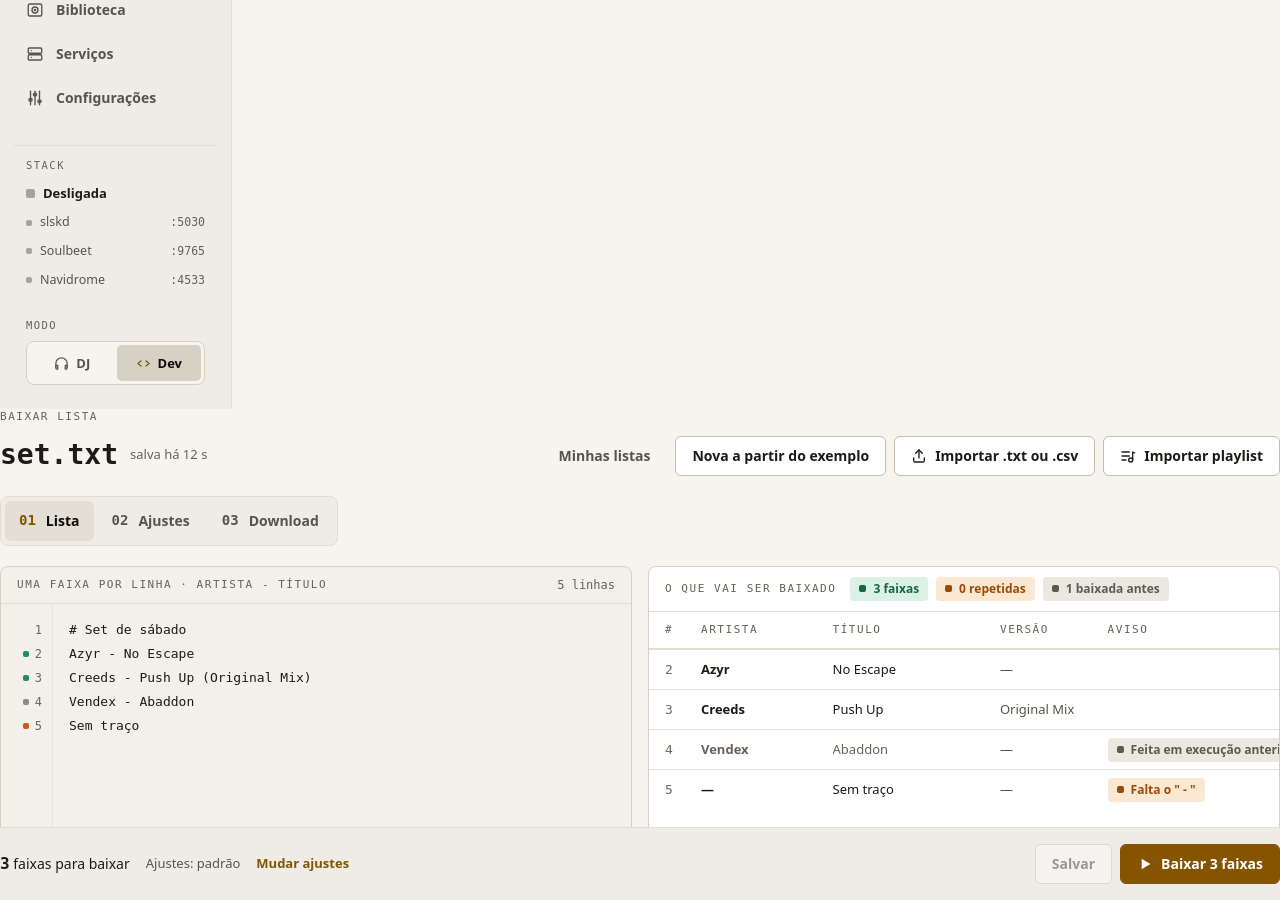
Test: iniciar o lote › cancelar a pergunta não liga nada nem inicia
(page scrolled)
Expected: the table with test id "previa-lista" is shown, [649, 612, 1279, 809]
Click the button with test id "iniciar-lote" at (1200, 864), box [1120, 844, 1279, 884]
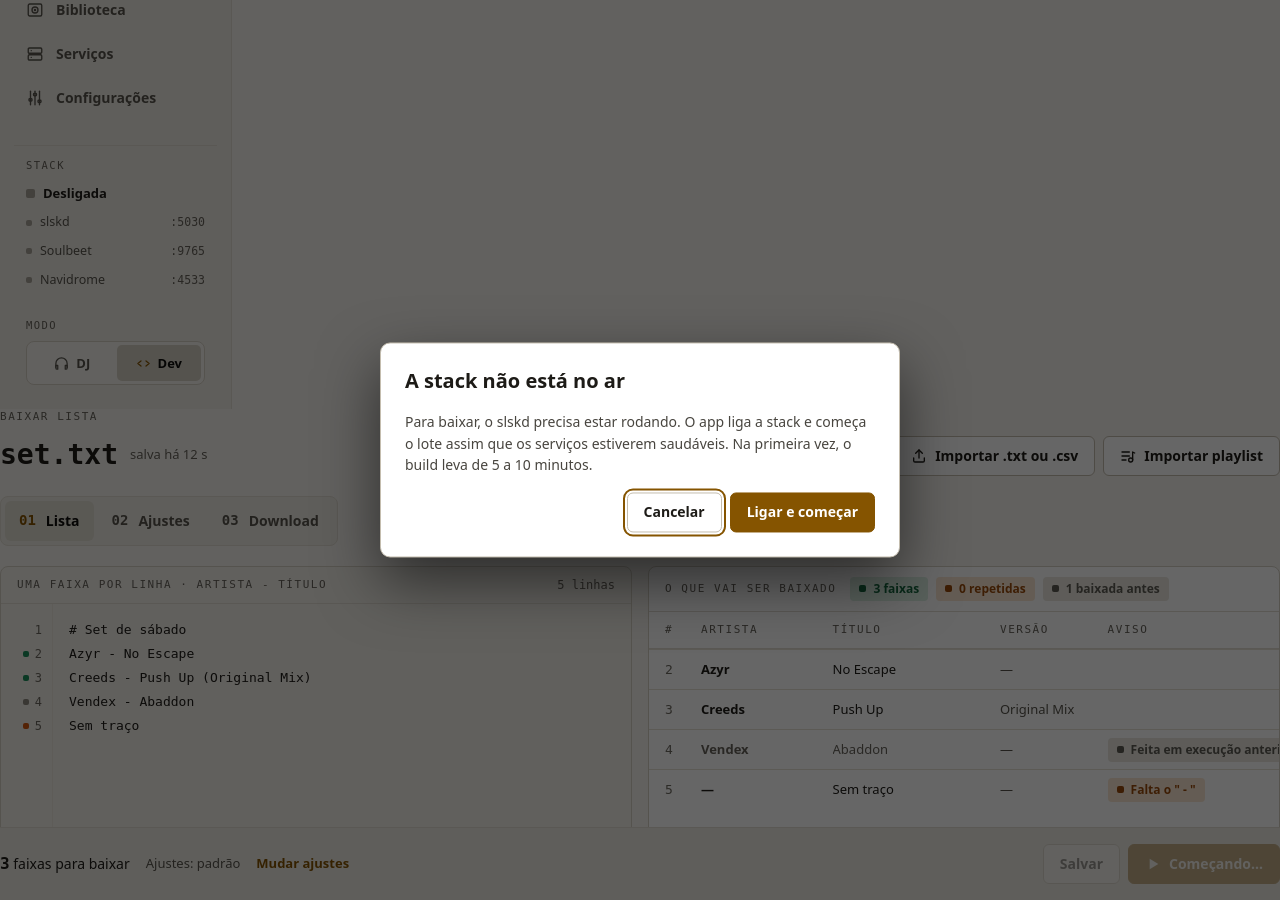
Click the button "Cancelar" at (674, 512), box [627, 492, 722, 532]
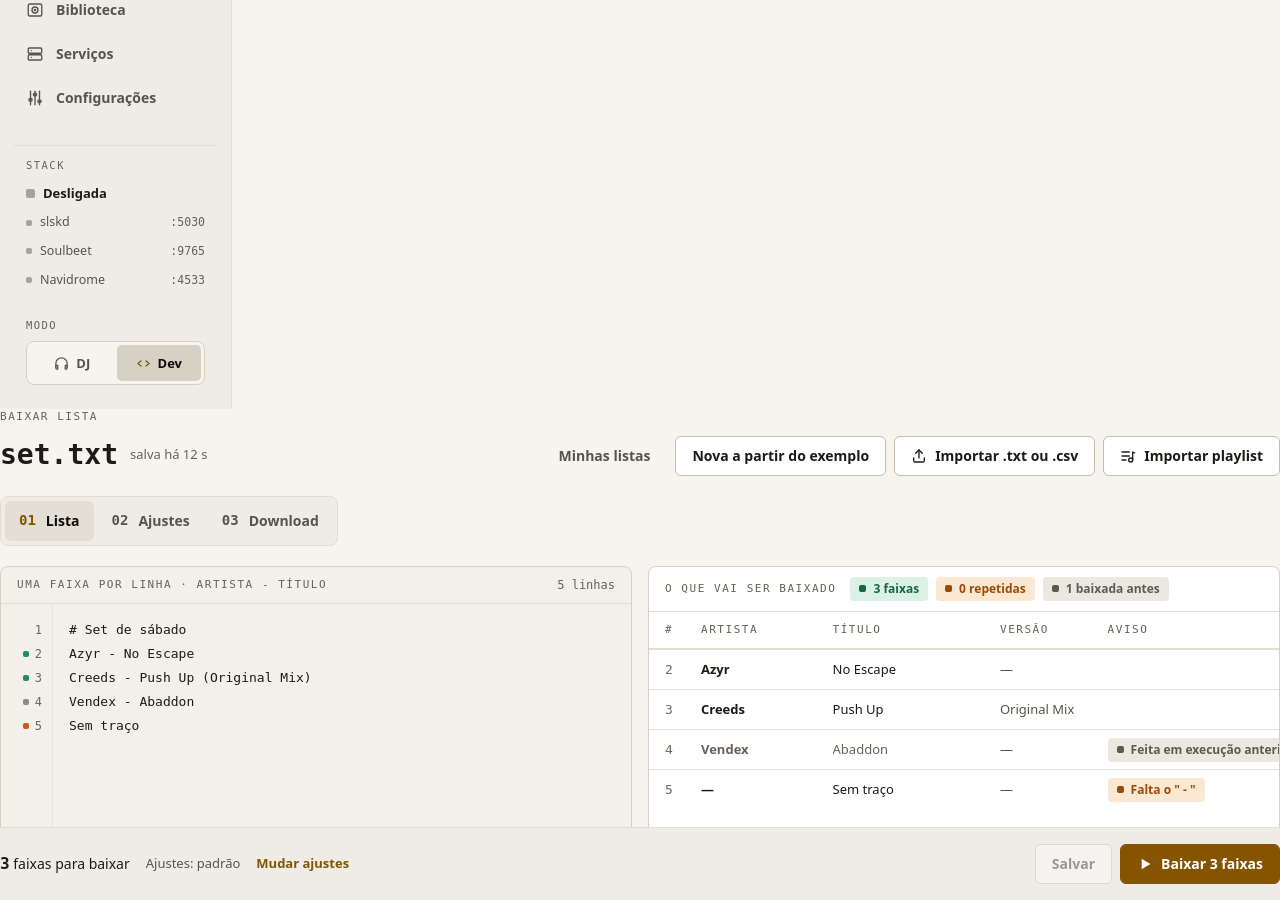
Now the dialog with test id "dialogo-iniciar" is gone
